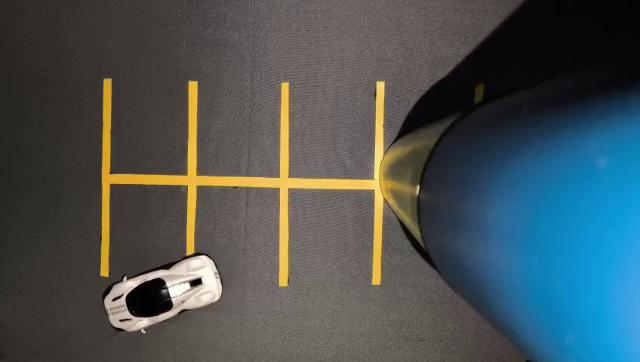toy_car: (99, 229, 237, 358)
